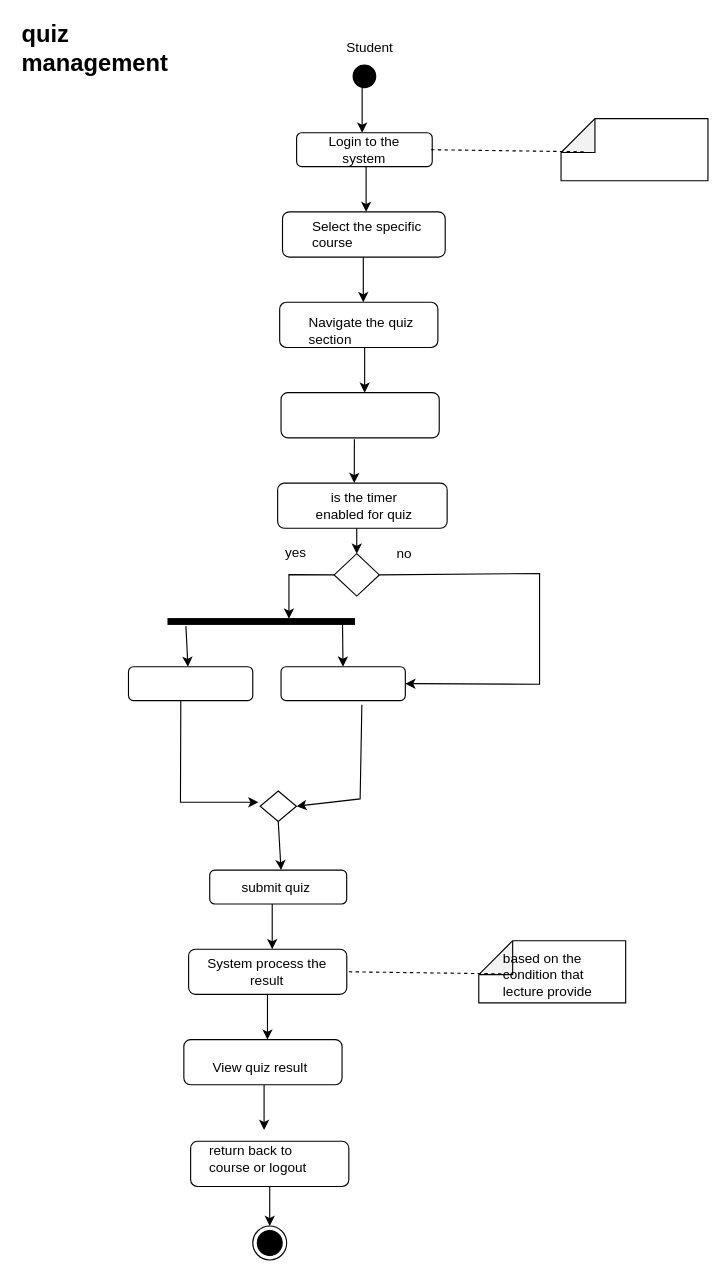
Some shapes in this 728 by 1279 pixel diagram are drawn without their labels. Each missing label, with the centre of its shape:
Answer questions: (x=342, y=683)
Start quiz: (x=359, y=415)
verify authentication: (x=634, y=149)
View timer: (x=190, y=683)
